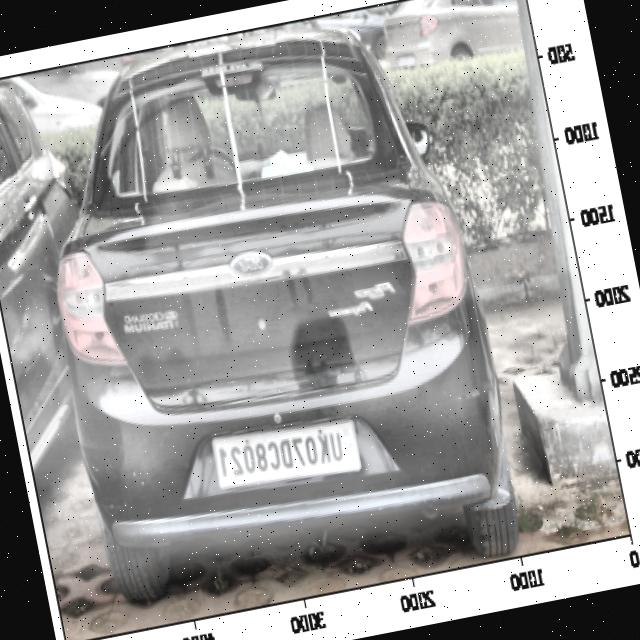license_plate: (210, 416, 352, 493)
